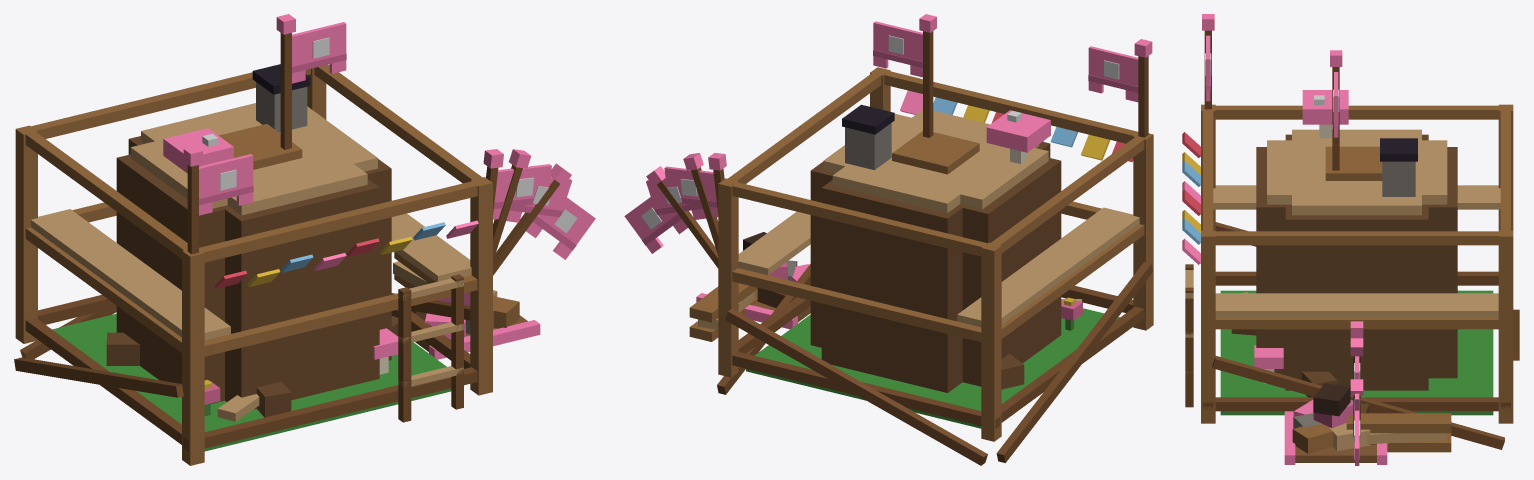
The model's file is opossum-home.glb.
3 views of the same model, side by side, from view 1: azimuth 30°, elevation 25°; view 2: azimuth 150°, elevation 25°; view 3: azimuth 270°, elevation 25° (orthographic). The views are drawn at different scales.
Visible parts, largest first — view 1: scaffold-mesh, built-mesh, dismantle-75-mesh, dismantle-50-mesh, scaffold-banner, banner, dismantle-25-banner, flag-pole, dismantle-75-banner, dismantle-25-mesh, scaffold-flag-pole, dismantle-25-flag-pole (+2 smaller); view 2: scaffold-mesh, built-mesh, dismantle-75-mesh, dismantle-50-mesh, scaffold-banner, banner, dismantle-25-banner, flag-pole, dismantle-75-banner, dismantle-25-mesh, scaffold-flag-pole, dismantle-50-banner (+2 smaller); view 3: scaffold-mesh, built-mesh, dismantle-75-mesh, dismantle-50-mesh, dismantle-25-mesh, flag-pole, scaffold-flag-pole, scaffold-banner, banner.
Boxes of the visible parts, x1,y1,x2,y2 form: scaffold-mesh: (14, 64, 492, 465); built-mesh: (116, 64, 393, 417); dismantle-75-mesh: (106, 212, 540, 414); dismantle-50-mesh: (112, 287, 540, 421); scaffold-banner: (199, 154, 253, 215); banner: (292, 22, 346, 83); dismantle-25-banner: (526, 191, 595, 259); flag-pole: (276, 14, 295, 149); dismantle-75-banner: (493, 164, 551, 219); dismantle-25-mesh: (112, 292, 539, 421); scaffold-flag-pole: (183, 146, 202, 254); dismantle-25-flag-pole: (493, 163, 571, 275); scaffold-mesh: (689, 67, 1153, 465); built-mesh: (810, 104, 1082, 392); dismantle-75-mesh: (696, 210, 1082, 428); dismantle-50-mesh: (697, 264, 1082, 425); scaffold-banner: (1088, 46, 1138, 102); banner: (873, 21, 922, 77); dismantle-25-banner: (624, 190, 687, 253); flag-pole: (919, 14, 936, 137); dismantle-75-banner: (664, 166, 718, 217); dismantle-25-mesh: (696, 232, 1082, 427); scaffold-flag-pole: (1134, 39, 1152, 137); dismantle-50-banner: (646, 175, 705, 224); scaffold-mesh: (1182, 104, 1519, 452); built-mesh: (1256, 90, 1457, 396); dismantle-75-mesh: (1231, 253, 1428, 464); dismantle-50-mesh: (1233, 292, 1428, 464); dismantle-25-mesh: (1232, 329, 1387, 464); flag-pole: (1330, 50, 1342, 170); scaffold-flag-pole: (1202, 14, 1214, 109); scaffold-banner: (1205, 35, 1211, 101); banner: (1333, 72, 1339, 137).
Size of the model in its own units: 2.45 by 1.77 by 1.61.
